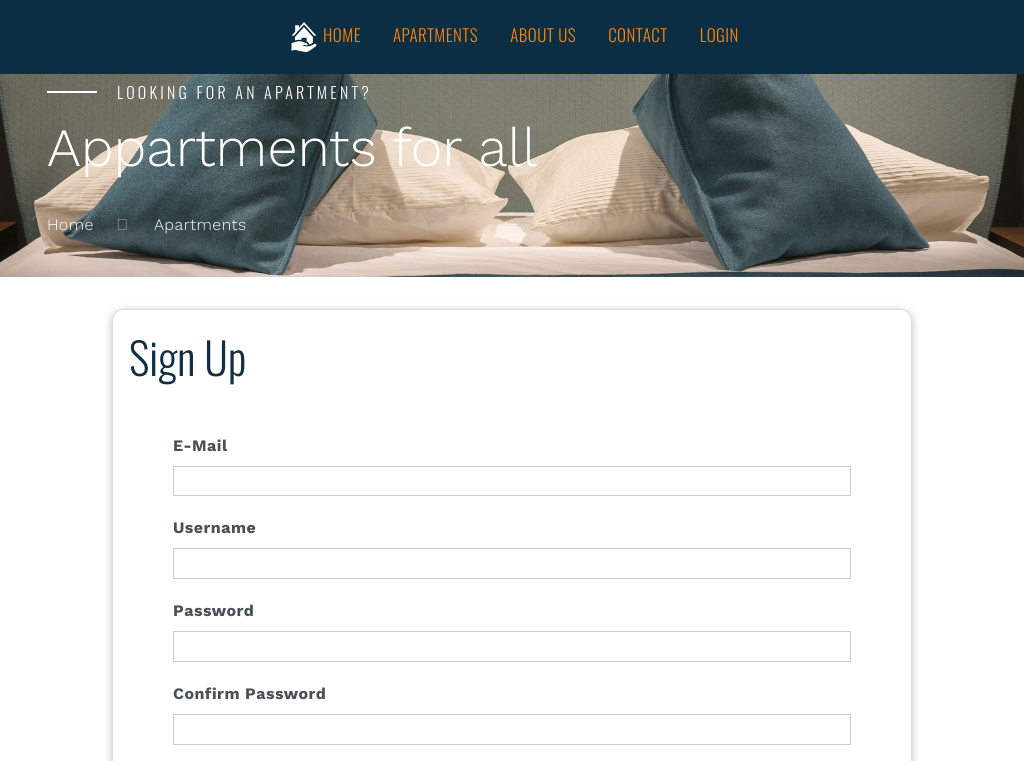
Scenario: Sign up › sign up fail, bad input
Expected: the heading "Sign Up" is shown, 129,324 -> 246,389
Step 1. Type "bademail" into the field with id "email" → [512, 482], box 173,466 -> 851,497
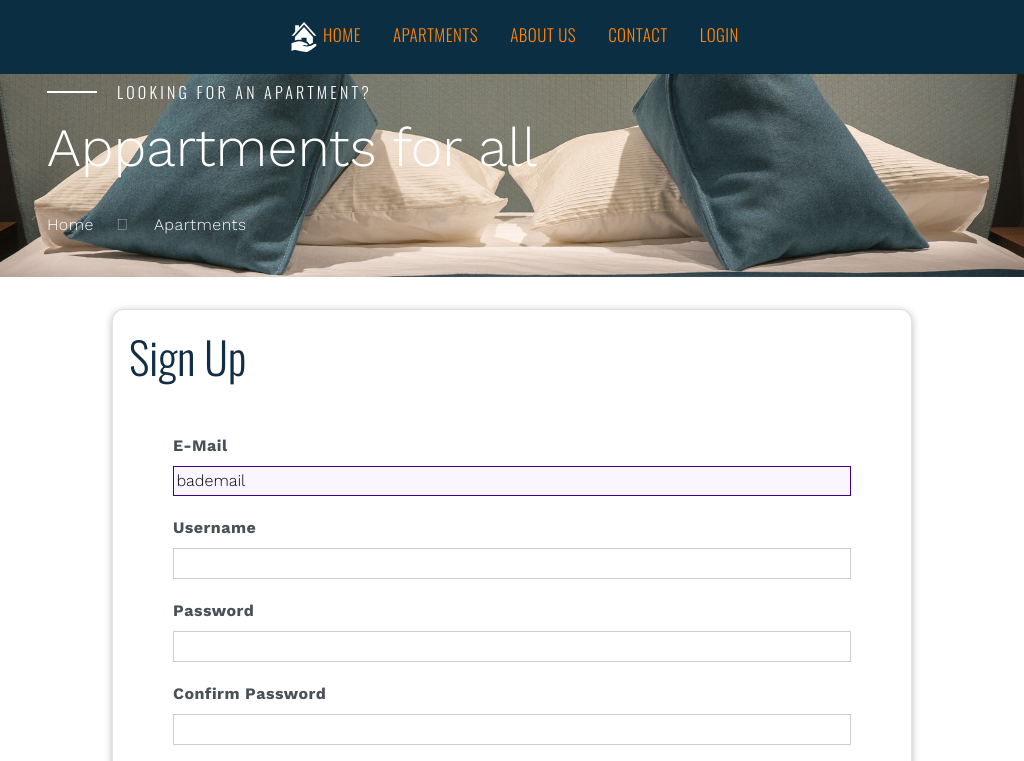
Step 2. Type "username" into the field with id "username" → [512, 564], box 173,548 -> 851,579
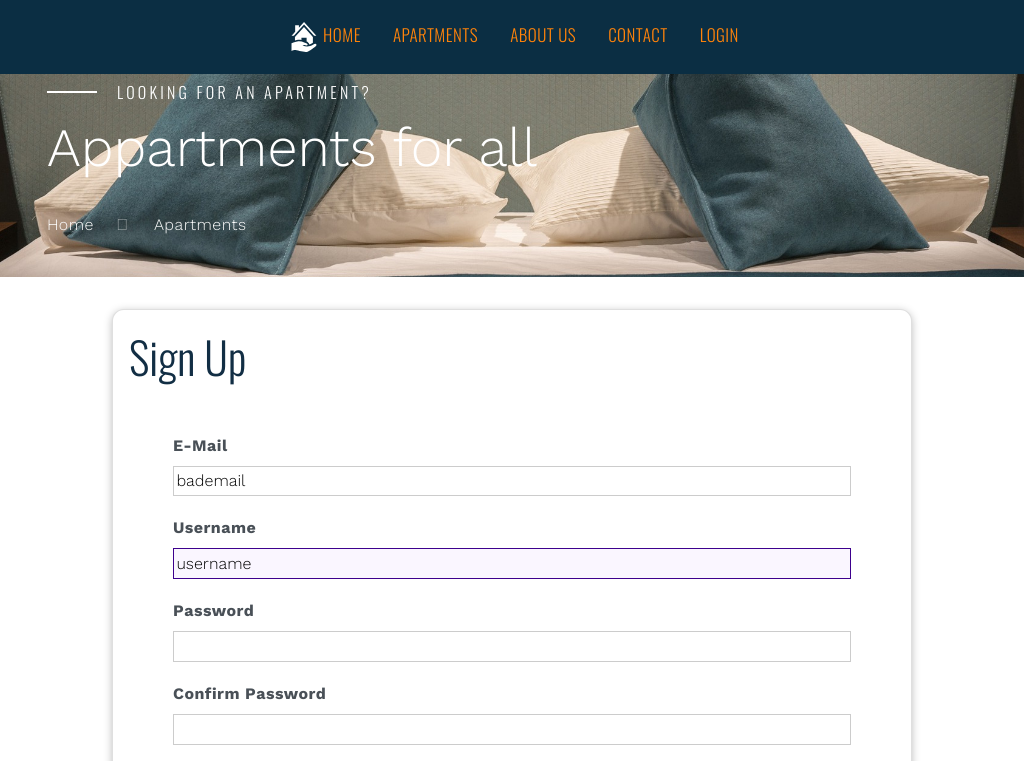
Step 3. Type "pass" into the password field labelled "Password" → [512, 647], box 173,631 -> 851,662
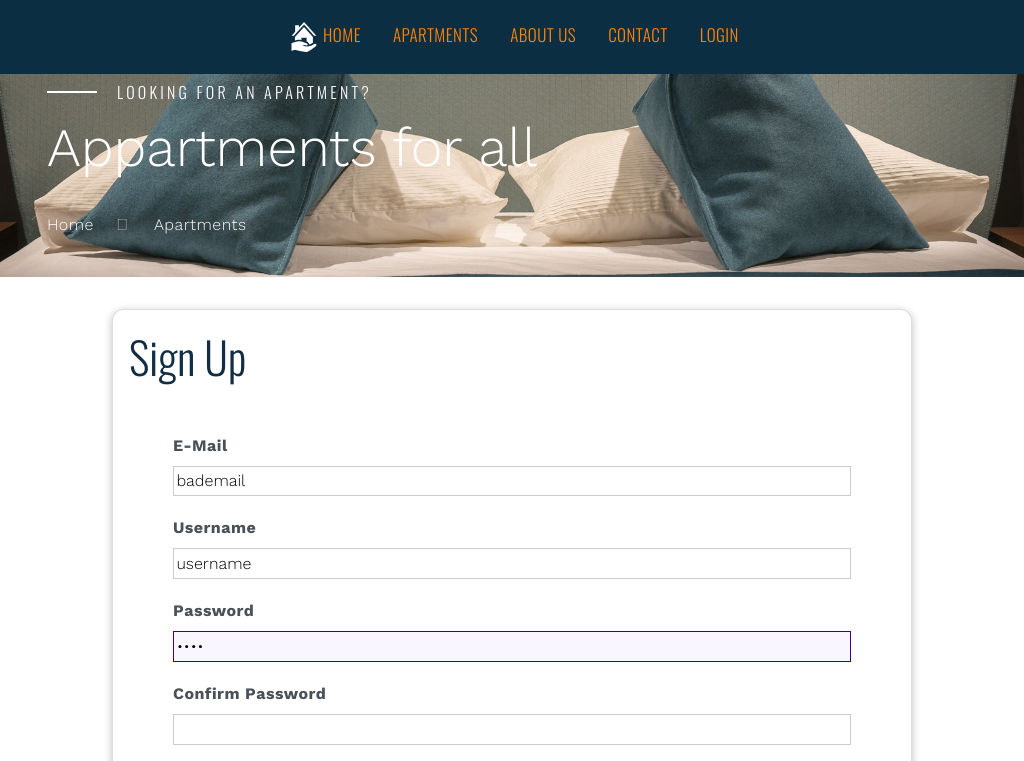
Step 4. Type "pass" into the 2nd password field → [512, 730], box 173,714 -> 851,745
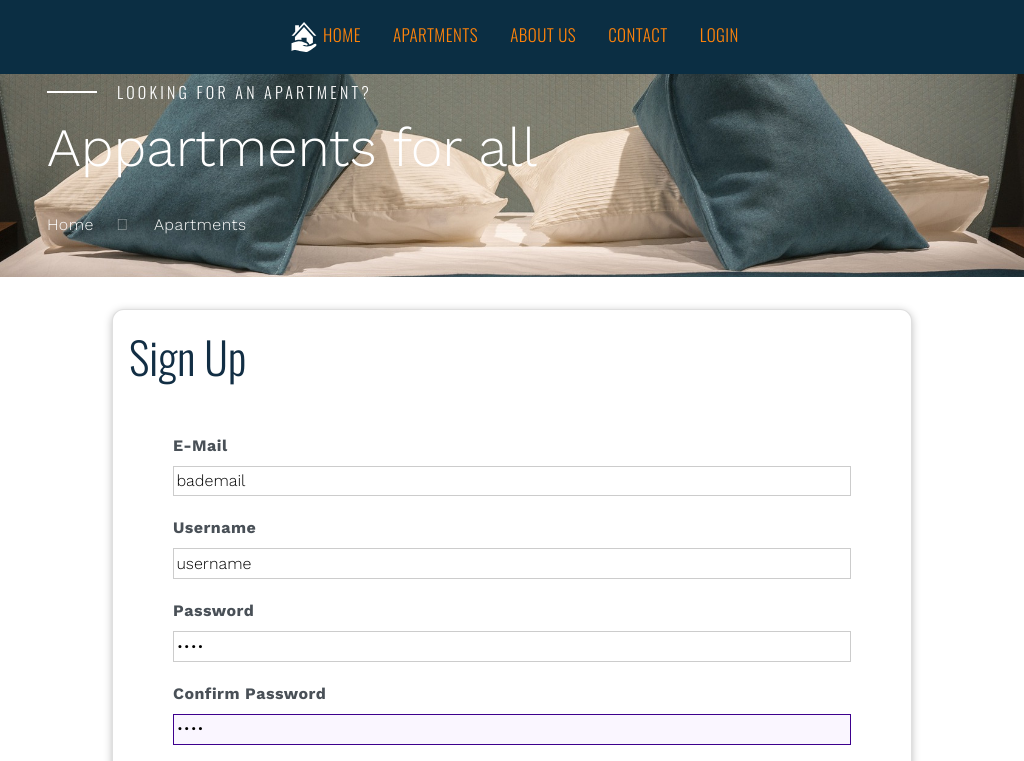
Step 5. Scroll
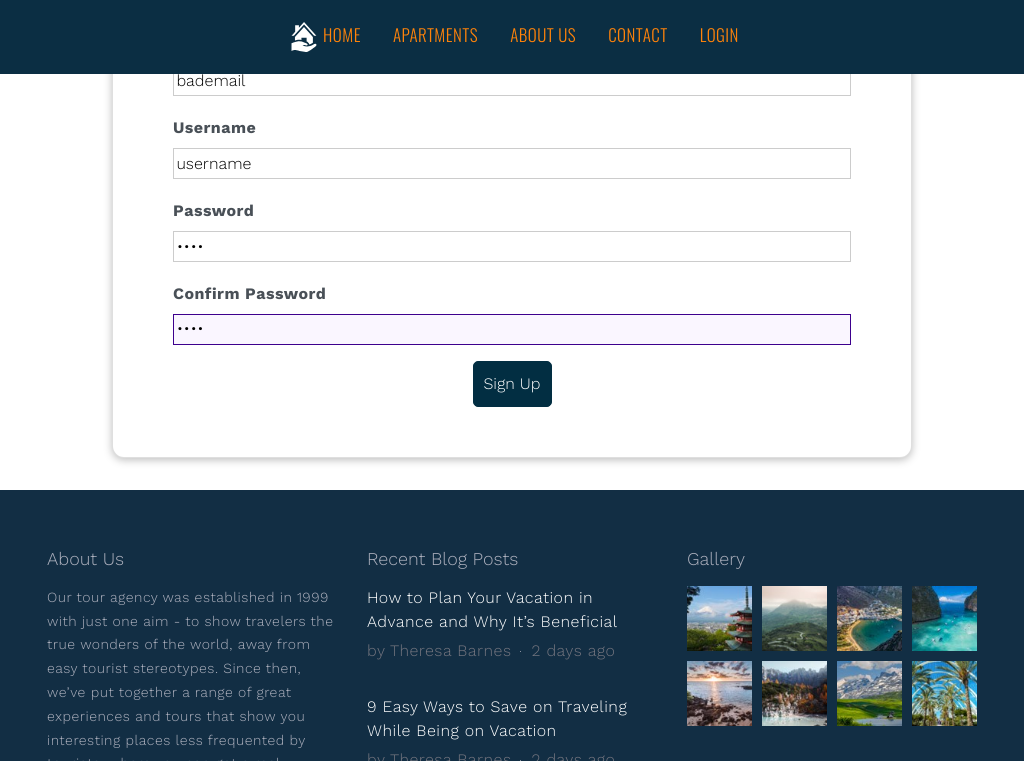
Step 6. Click the button "Sign Up" → [513, 384], box 473,361 -> 552,407
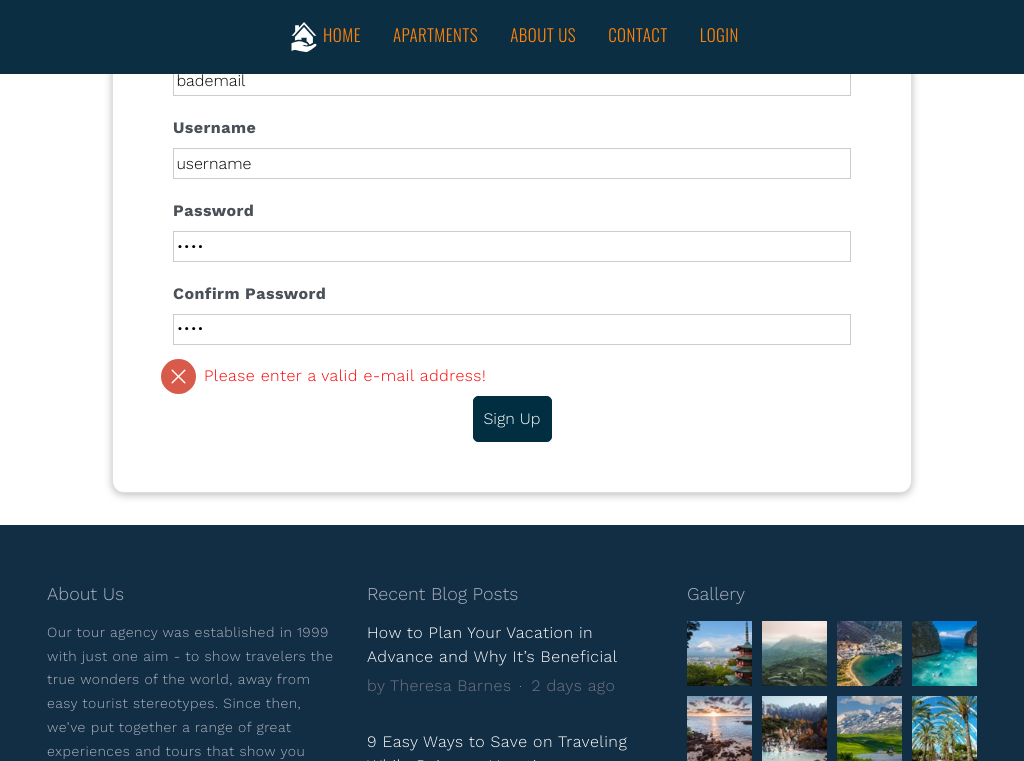
Result: the text "Please enter a valid e-mail address" is shown at 204,366 -> 486,385
